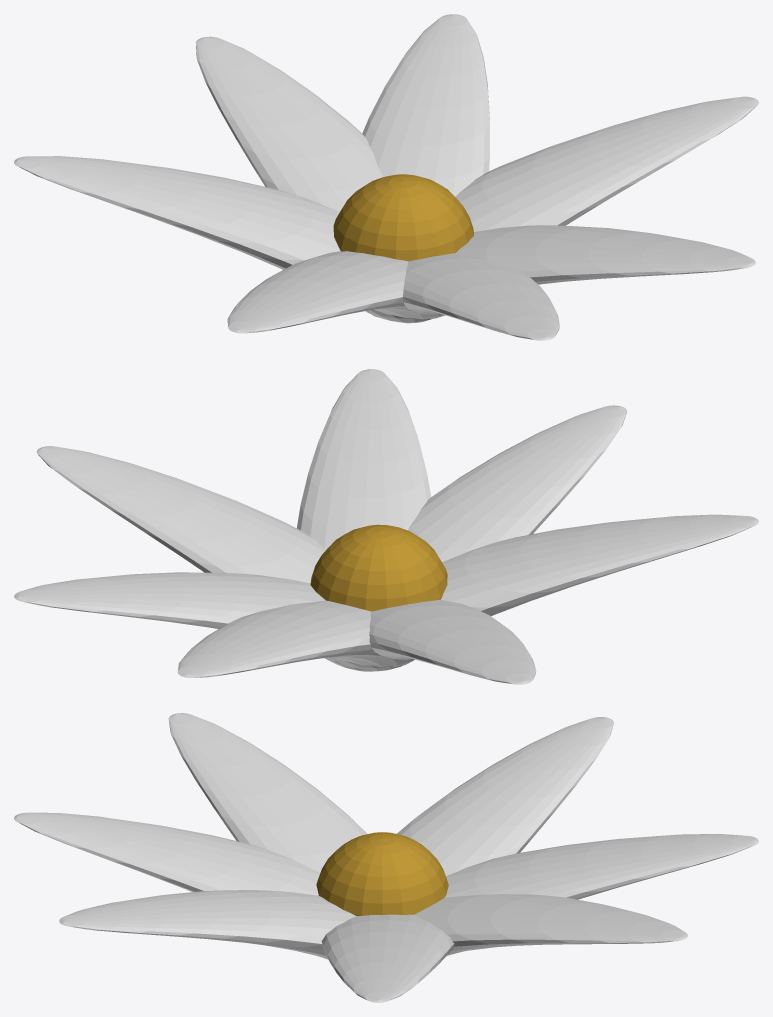
The model's file is flower.fbx.
3 renders of one model, top to bottom at view 1: azimuth 30°, elevation 25°; view 2: azimuth 150°, elevation 25°; view 3: azimuth 270°, elevation 25°, orthographic. The views are drawn at different scales.
Visible parts, largest first — view 1: Sphere.004, Sphere.007, Sphere, Sphere.003, Sphere.005, Sphere.006, Sphere.001, Sphere.008; view 2: Sphere.004, Sphere.005, Sphere.006, Sphere.001, Sphere.003, Sphere, Sphere.007, Sphere.008; view 3: Sphere.007, Sphere.006, Sphere.001, Sphere.005, Sphere, Sphere.003, Sphere.008, Sphere.004.
Part boxes in pixels (bbox=[...]): Sphere.004: bbox=[455, 96, 758, 231]; Sphere.007: bbox=[14, 156, 431, 323]; Sphere: bbox=[195, 36, 392, 321]; Sphere.003: bbox=[362, 14, 489, 196]; Sphere.005: bbox=[456, 225, 755, 284]; Sphere.006: bbox=[227, 251, 444, 333]; Sphere.001: bbox=[403, 253, 559, 340]; Sphere.008: bbox=[333, 174, 473, 261]; Sphere.004: bbox=[36, 446, 375, 671]; Sphere.005: bbox=[297, 369, 430, 549]; Sphere.006: bbox=[441, 514, 758, 615]; Sphere.001: bbox=[408, 405, 627, 562]; Sphere.003: bbox=[14, 572, 402, 671]; Sphere: bbox=[177, 600, 414, 677]; Sphere.007: bbox=[369, 599, 536, 684]; Sphere.008: bbox=[310, 524, 447, 611]; Sphere.007: bbox=[397, 717, 613, 875]; Sphere.006: bbox=[168, 713, 367, 872]; Sphere.001: bbox=[14, 812, 320, 895]; Sphere.005: bbox=[59, 890, 356, 959]; Sphere: bbox=[445, 833, 758, 899]; Sphere.003: bbox=[414, 894, 687, 955]; Sphere.008: bbox=[316, 832, 448, 915]; Sphere.004: bbox=[321, 914, 454, 1002].
Size of the model in its own units: 99.65 by 20.27 by 108.
